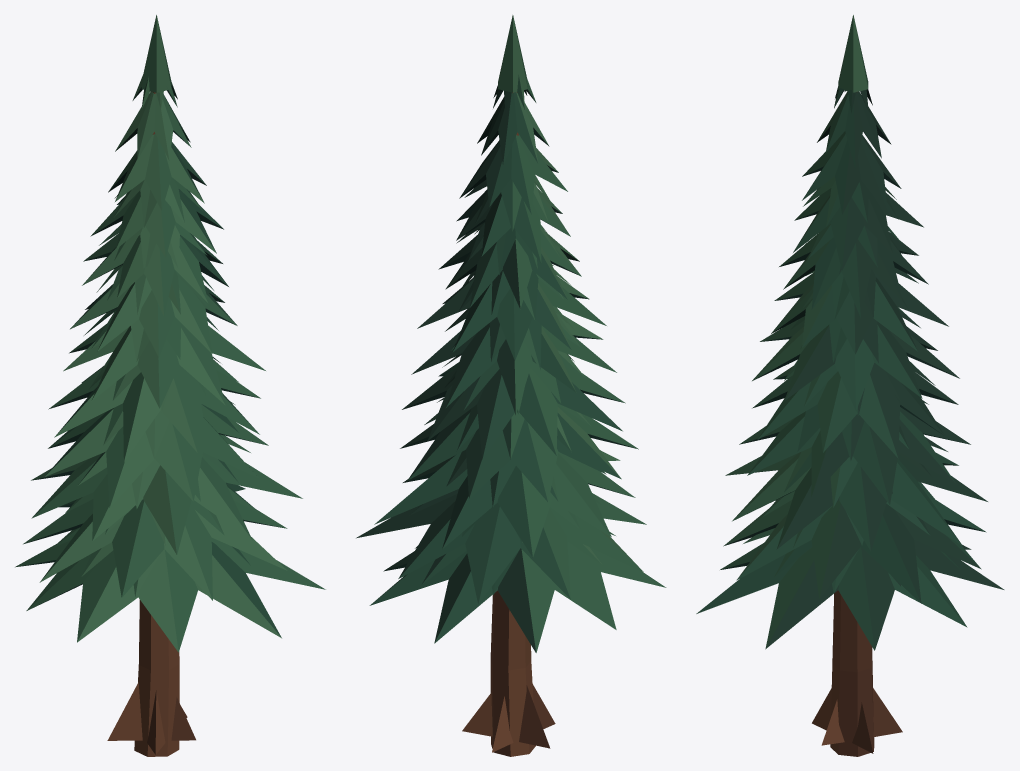
The model's file is wf_pine.glb.
3 views of the same model, side by side, from view 1: azimuth 30°, elevation 25°; view 2: azimuth 150°, elevation 25°; view 3: azimuth 270°, elevation 25° (orthographic).
Parts seen in each view (by area): view 1: wf_pine; view 2: wf_pine; view 3: wf_pine.
Boxes of the visible parts, <box> form: wf_pine: <box>15,15,325,756</box>; wf_pine: <box>356,15,666,756</box>; wf_pine: <box>696,15,1004,756</box>.
Bounding box in the file's own units: 5.85 × 16.4 × 6.28.
